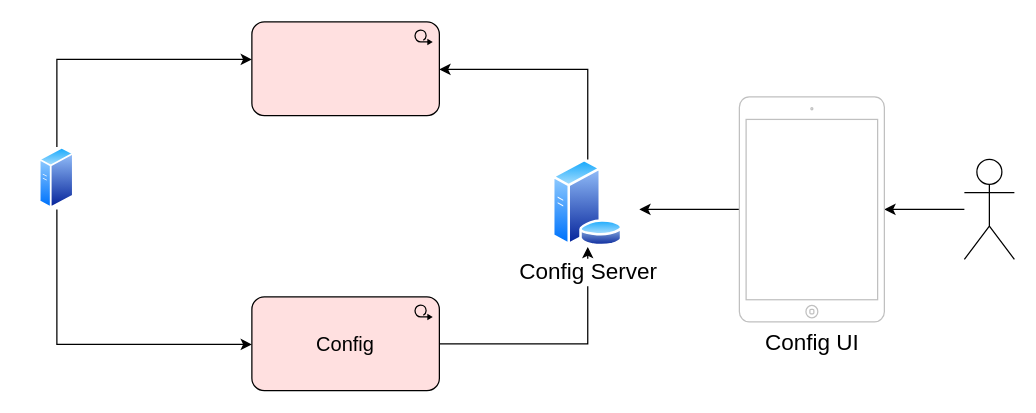
Some shapes in this 1036 by 413 pixel diagram are drawn without their labels. The box of each missing label's shape, as (x1, y1, x2, y2) in pixels:
Schemas: (251, 21, 439, 116)
Service: (39, 146, 74, 209)
